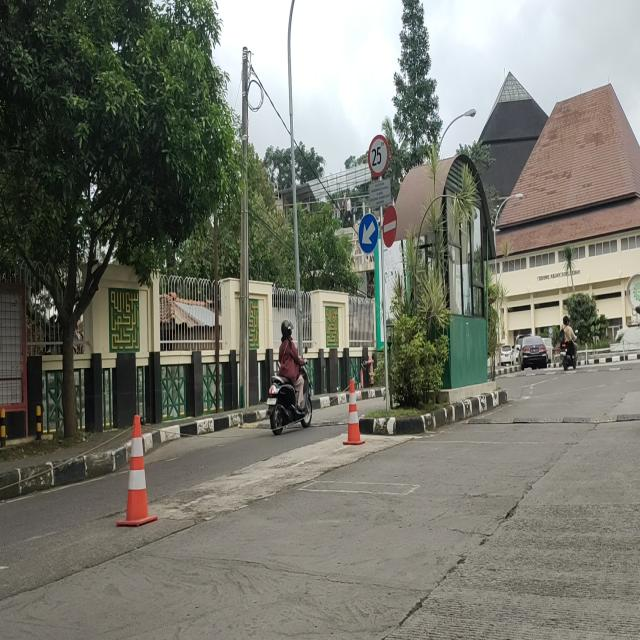helmet: (279, 316, 292, 339)
